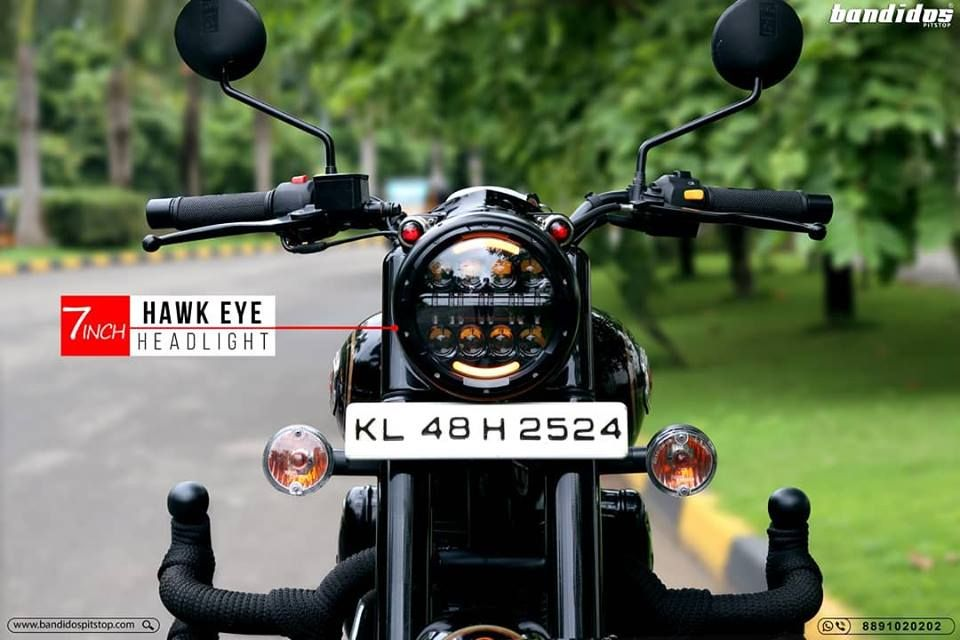numberplate: (345, 399, 632, 461)
